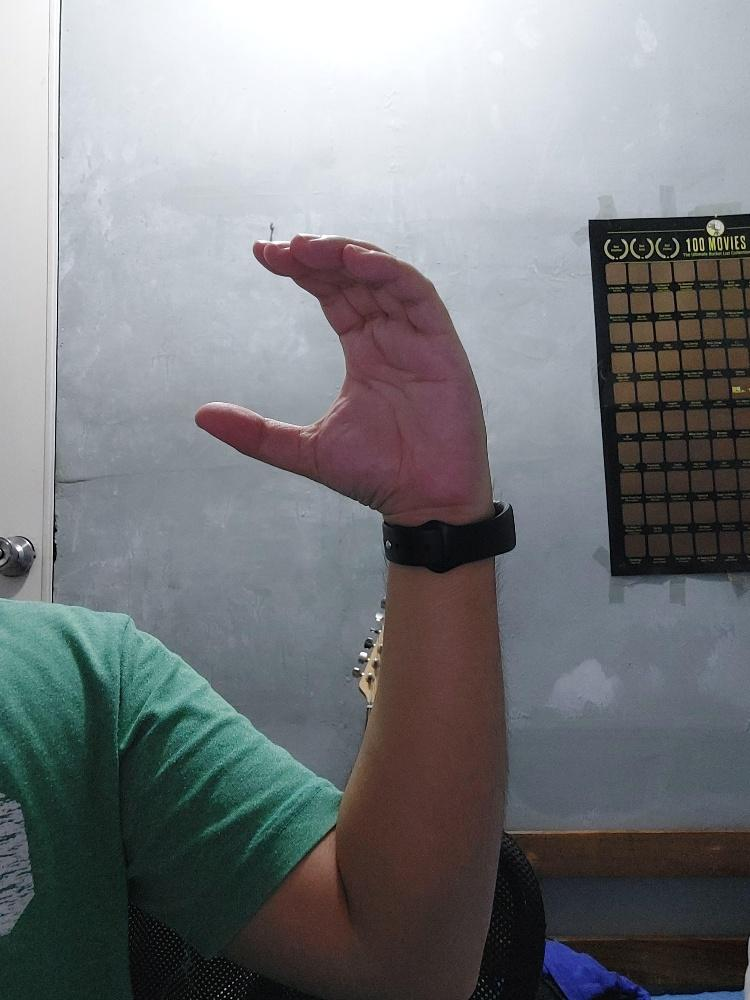c: (192, 224, 492, 500)
